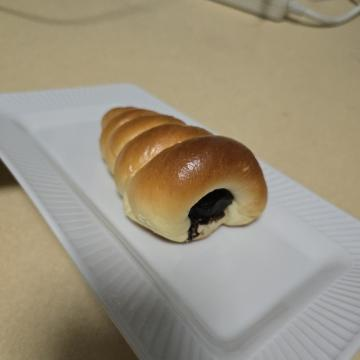cream horn: (91, 82, 265, 270)
